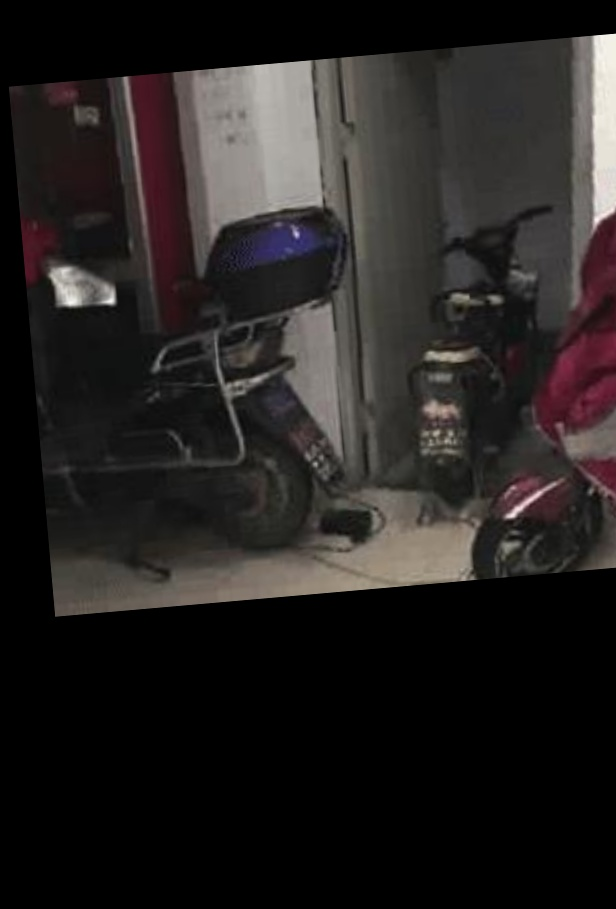ebike: (15, 204, 357, 543), (494, 182, 616, 594), (413, 200, 531, 511)
